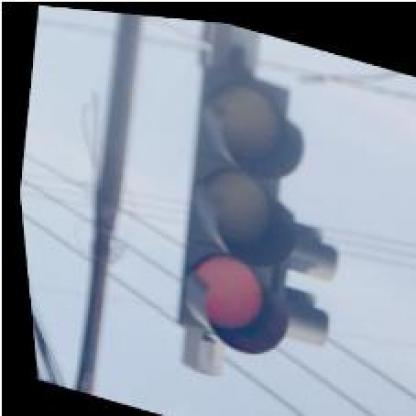red: (146, 57, 330, 364)
